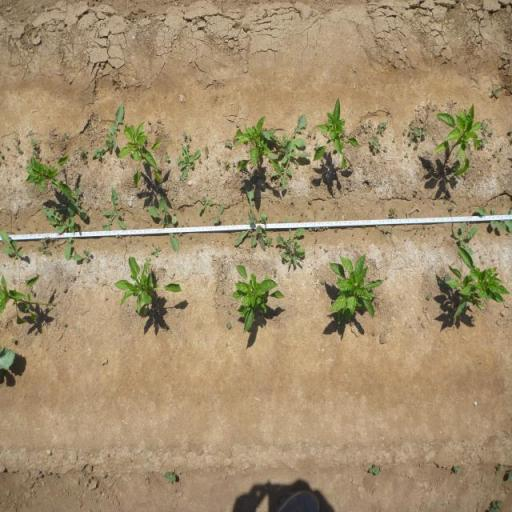plant: (447, 243, 510, 329), (113, 255, 184, 319), (327, 251, 383, 326), (232, 263, 287, 337), (433, 100, 480, 180), (314, 95, 361, 173), (0, 270, 58, 326), (234, 114, 280, 174), (122, 120, 163, 186), (24, 154, 74, 201)
weed: (264, 112, 312, 193), (230, 183, 268, 251), (41, 208, 82, 264), (90, 104, 123, 162), (147, 196, 182, 250), (275, 216, 307, 268), (99, 186, 127, 231), (54, 185, 91, 219), (452, 221, 481, 256), (476, 206, 512, 234), (174, 148, 200, 182), (0, 231, 25, 259), (198, 195, 214, 215), (73, 248, 92, 264), (213, 204, 225, 226), (368, 136, 382, 154), (487, 497, 501, 512), (368, 463, 382, 477), (402, 120, 414, 136), (414, 126, 428, 138), (78, 147, 88, 163), (438, 272, 448, 288), (150, 246, 163, 258), (164, 471, 176, 484), (377, 121, 388, 135), (38, 246, 50, 258), (388, 206, 398, 220), (490, 87, 500, 99), (308, 226, 327, 232), (480, 118, 488, 132), (263, 236, 274, 246), (494, 463, 504, 474), (452, 464, 461, 476), (43, 237, 60, 243), (60, 132, 70, 142), (30, 137, 38, 149), (480, 136, 488, 148), (204, 143, 210, 158), (15, 144, 23, 154), (224, 140, 234, 148), (182, 131, 188, 142), (381, 228, 392, 234), (144, 256, 152, 264), (164, 151, 170, 161), (362, 122, 368, 132), (32, 150, 38, 158), (11, 337, 17, 345), (488, 128, 494, 136), (214, 158, 221, 164), (272, 270, 278, 277), (314, 142, 320, 149), (425, 294, 432, 300), (468, 152, 472, 162), (226, 322, 232, 328), (308, 199, 314, 205), (408, 138, 414, 144), (224, 161, 228, 169), (342, 129, 346, 137), (494, 148, 498, 156), (414, 142, 419, 148), (496, 157, 502, 162), (449, 206, 456, 210), (466, 170, 470, 177), (188, 134, 192, 140), (306, 131, 312, 135), (319, 280, 325, 284), (384, 146, 388, 151), (405, 152, 409, 157), (198, 158, 201, 163), (228, 310, 230, 316), (222, 289, 224, 294), (388, 109, 390, 114), (313, 134, 315, 136)
